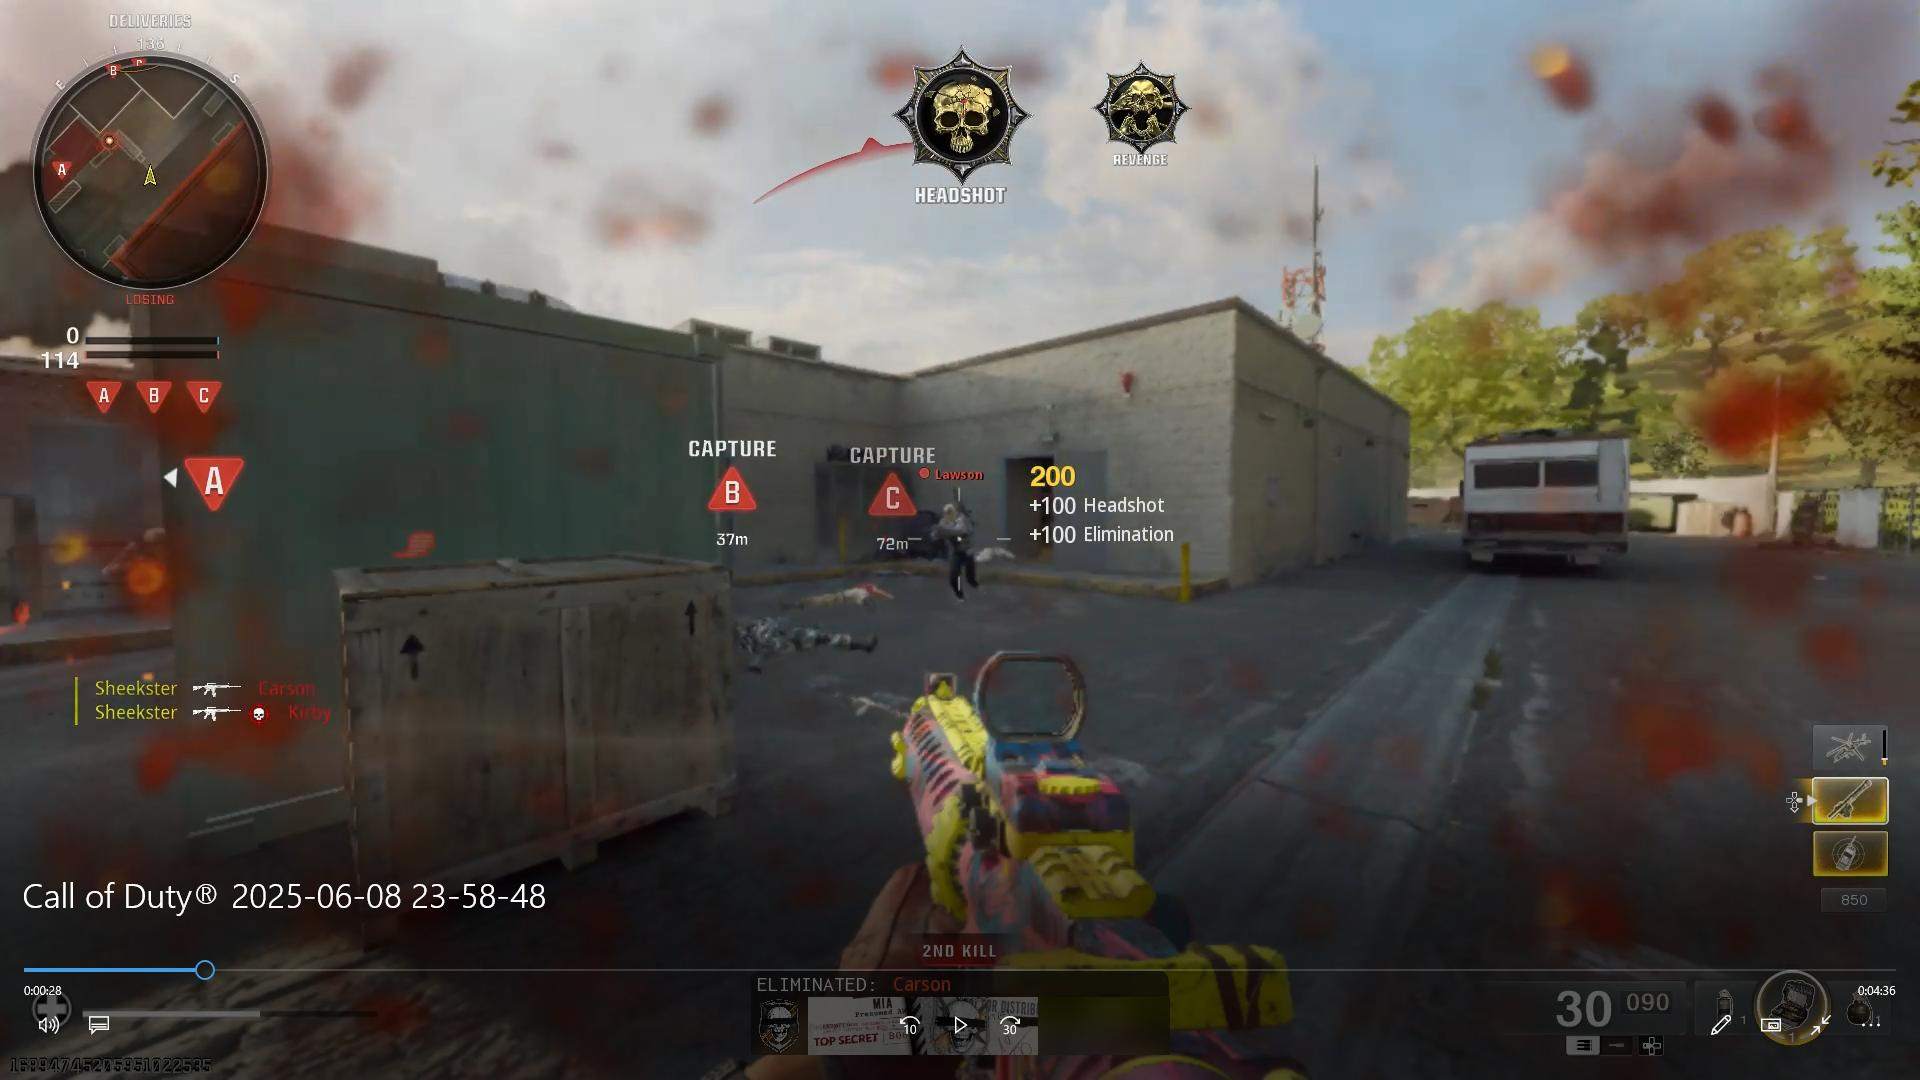Enemy: (920, 493, 989, 597)
